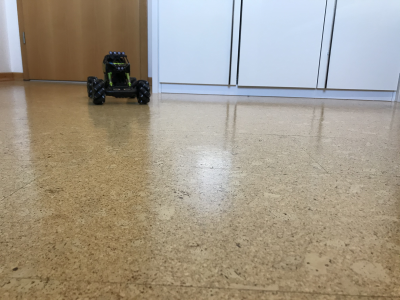remote control car: (83, 49, 153, 107)
